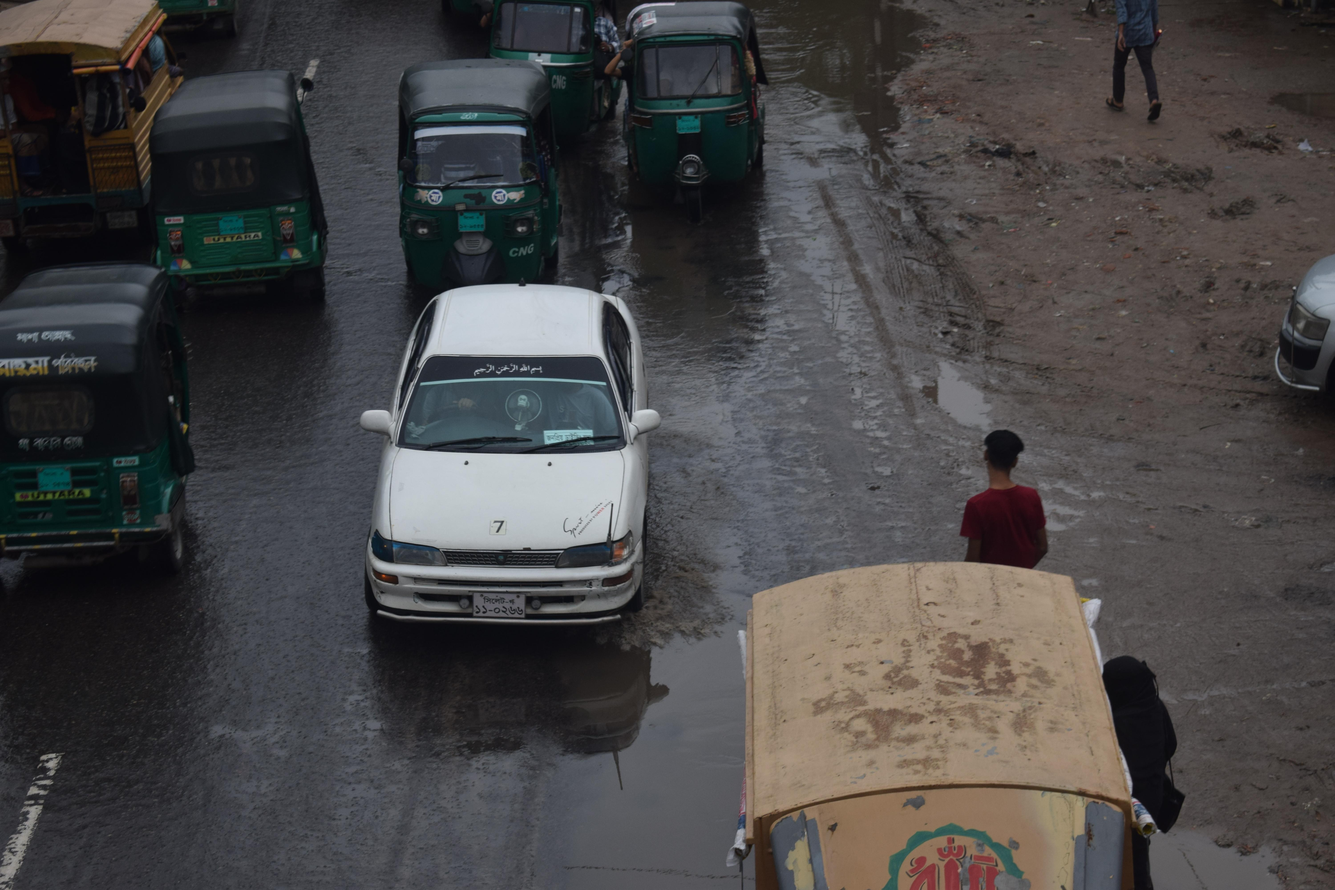Car: (320, 252, 694, 661), (0, 0, 190, 245)
